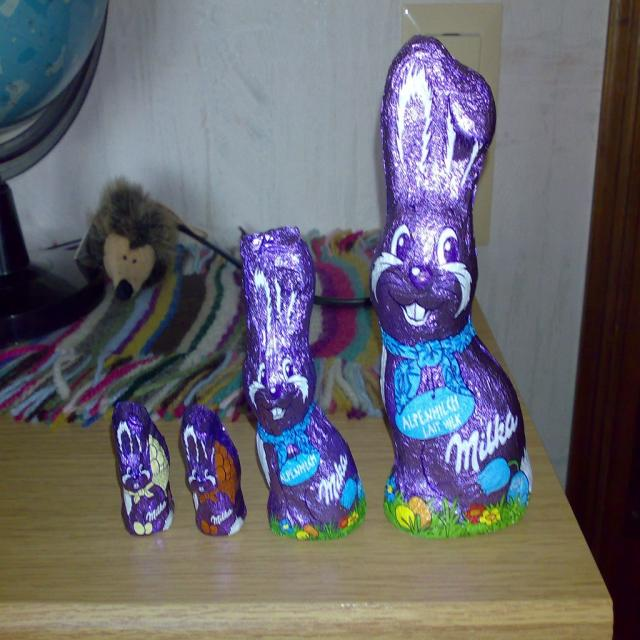milka: (438, 405, 522, 476), (316, 452, 351, 503), (144, 499, 172, 528), (210, 506, 237, 529)
